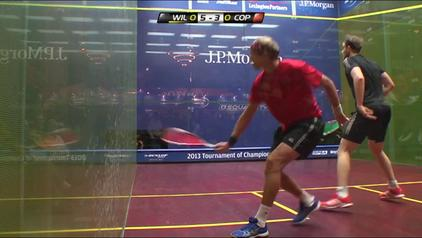sit: (329, 26, 404, 174)
